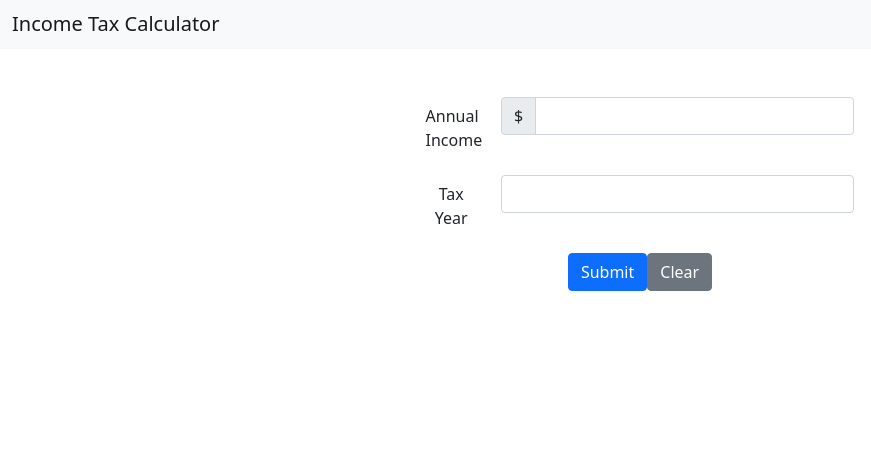
Testing Dashboard › Invalid input scenarios › Empty income and tax year field
Click the button with id "submit": (608, 272) [568,253,647,291]
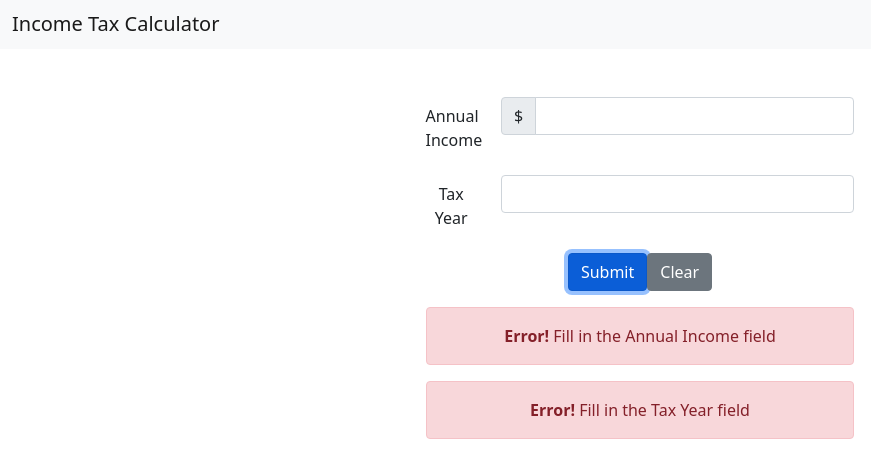
Check: the text "Fill in the Annual Income field" is shown, box [553,325,775,347]
Check: the text "Fill in the Tax Year field" is shown, box [579,399,750,421]
